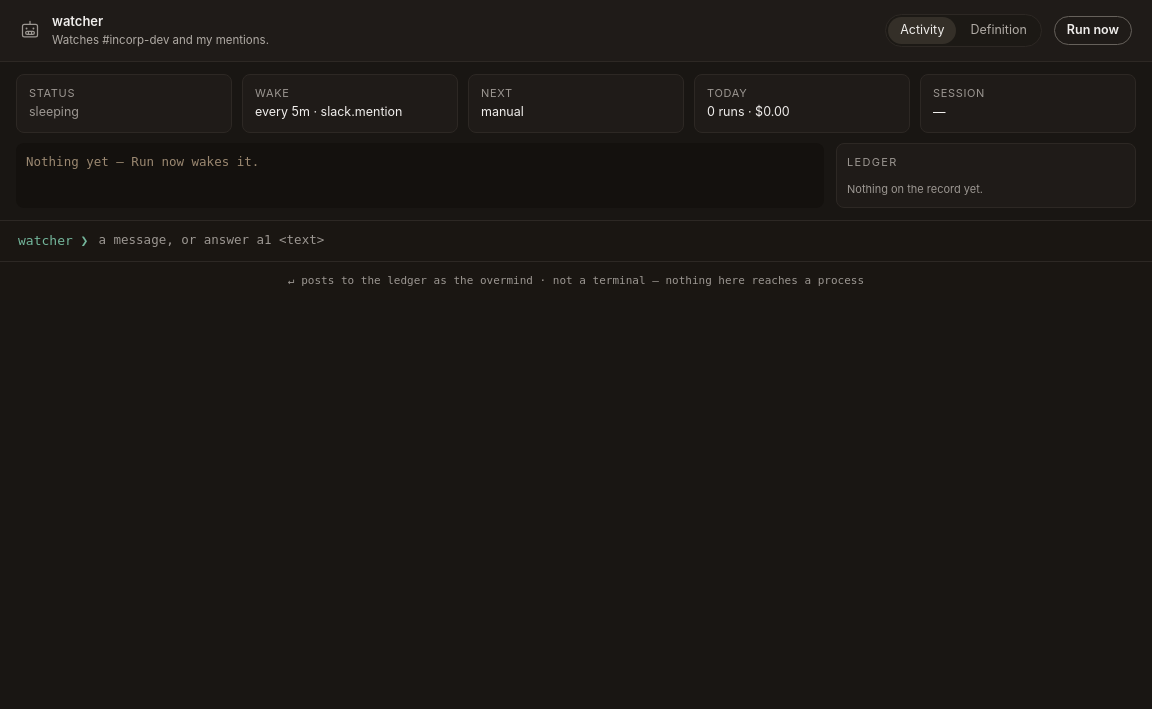
Test: AgentPage — the header › switches to Definition and keeps the agent
Click the radio button labelled "Definition".
click(999, 30)  # box [958, 17, 1039, 44]
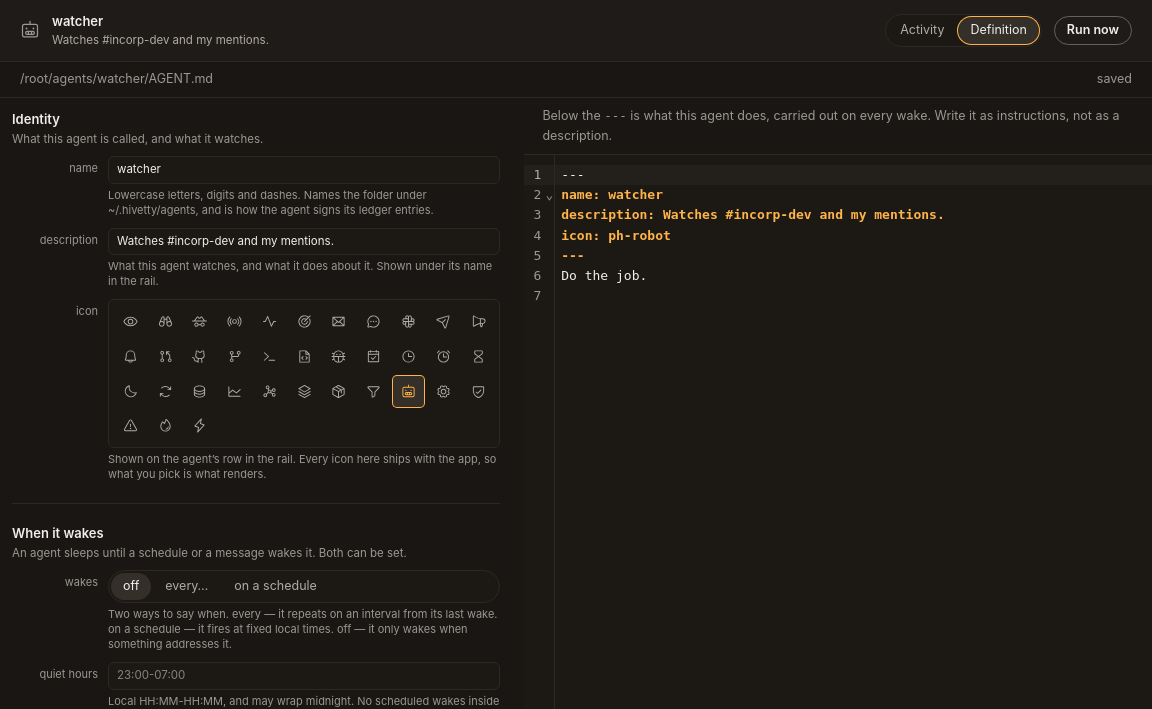
expect the field named "name" holds "watcher": met, box [108, 156, 500, 184]
